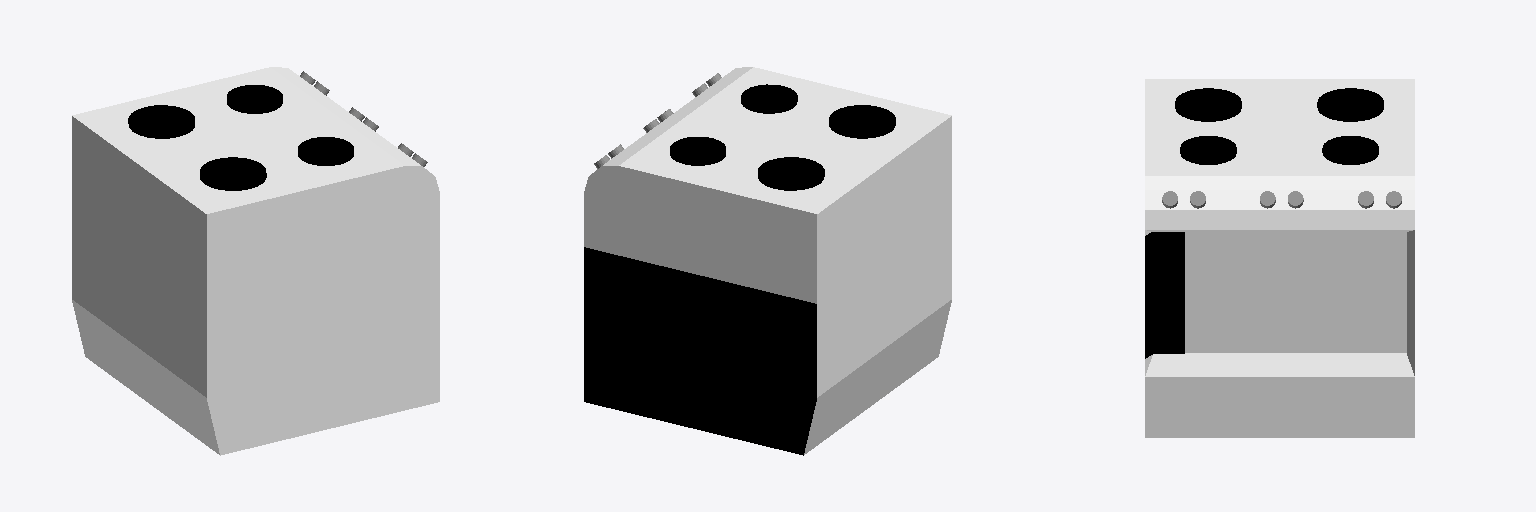
3 views of the same model, side by side, from view 1: azimuth 30°, elevation 25°; view 2: azimuth 150°, elevation 25°; view 3: azimuth 270°, elevation 25° (orthographic).
Parts seen in each view (by area): view 1: pCube1, pCylinder3, pCylinder2, pCylinder1, pCylinder4; view 2: pCube1, pCylinder3, pCylinder2, pCylinder1, pCylinder4; view 3: pCube1, pCylinder2, pCylinder3, pCylinder1, pCylinder4.
Part boxes in pixels (x1,y1,x2,y2): pCube1: (72,67,439,455); pCylinder3: (128,105,194,138); pCylinder2: (200,157,266,190); pCylinder1: (298,137,353,165); pCylinder4: (227,85,282,113); pCube1: (584,67,951,455); pCylinder3: (758,157,824,190); pCylinder2: (829,105,895,138); pCylinder1: (741,84,797,113); pCylinder4: (670,137,725,165); pCube1: (1145,79,1414,437); pCylinder2: (1175,88,1241,121); pCylinder3: (1317,88,1383,121); pCylinder1: (1180,136,1236,164); pCylinder4: (1322,136,1378,164).
Bounding box in the file's own units: 1 × 1.02 × 1.
Materials: 3 (3 with a texture image).